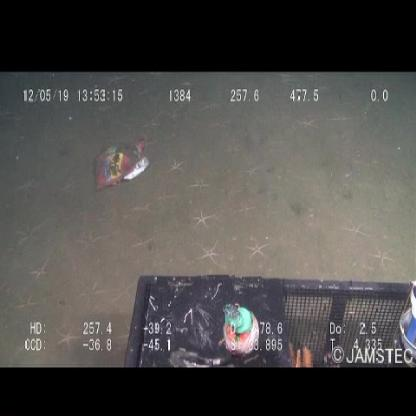Rov: (119, 270, 416, 368)
Rác: (89, 133, 153, 194)
